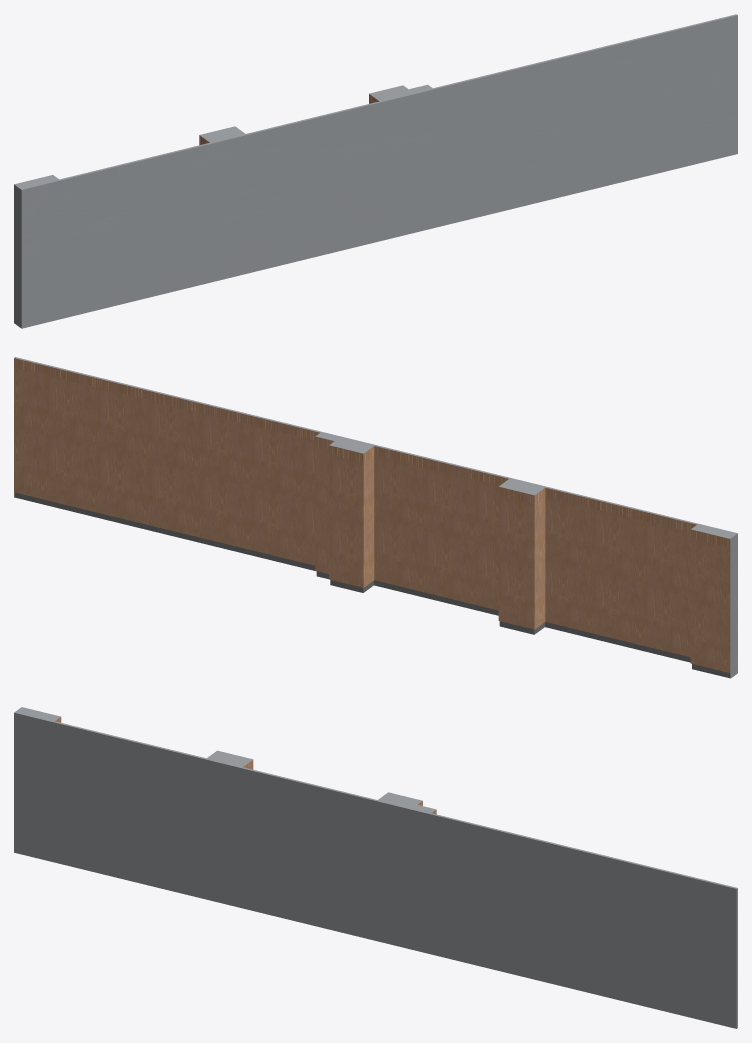
3 views of the same model, one above another, from view 1: azimuth 30°, elevation 25°; view 2: azimuth 150°, elevation 25°; view 3: azimuth 330°, elevation 25° (orthographic).
Parts seen in each view (by area): view 1: 왼쪽벽; view 2: 왼쪽벽; view 3: 왼쪽벽.
Boxes of the visible parts, x1=… form: 왼쪽벽: x1=14, y1=14, x2=737, y2=328; 왼쪽벽: x1=14, y1=357, x2=737, y2=678; 왼쪽벽: x1=14, y1=707, x2=737, y2=1028.
Size of the model in its own units: 2440 by 452 by 70.26.
